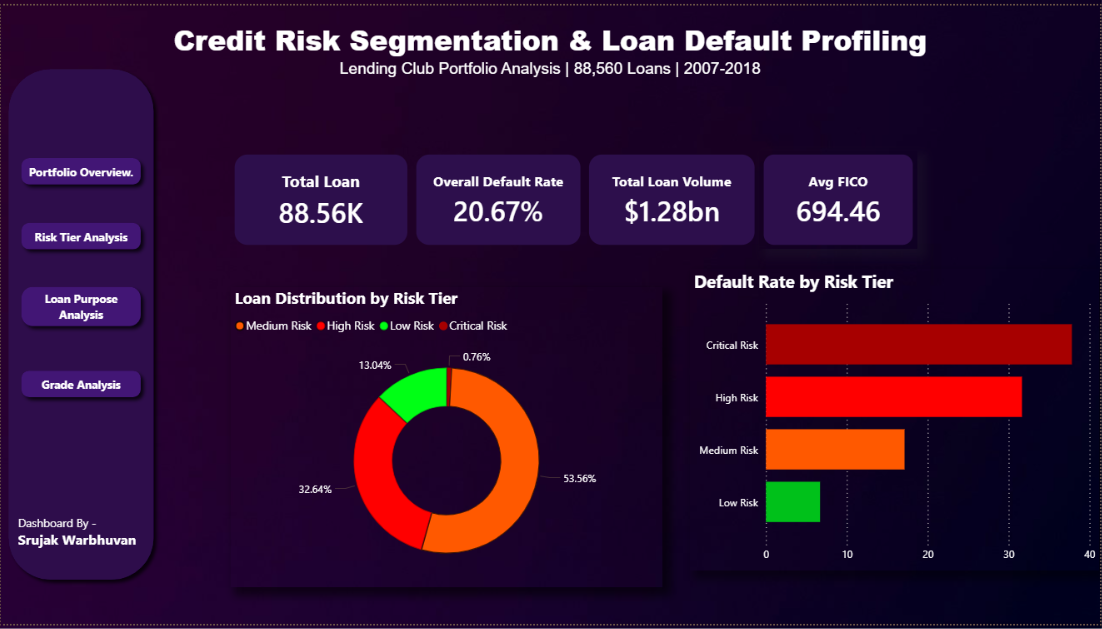

The dashboard page shown, as its layout file describes it:
{"tool":"powerbi","page":{"name":"Portfolio Overview.","canvas":[1280,720],"ordinal":0},"visuals":[{"type":"shape","box":[221.3,142.7,934.7,154.7],"z":0},{"type":"textbox","box":[74.2,12.8,1131.2,88.3],"z":1000},{"type":"cardVisual","fields":{"Data":["CountNonNull(loans_scored_full.loan_amnt)"]},"box":[267.5,168.8,190,100],"z":2000},{"type":"cardVisual","fields":{"Data":["Avg(loans_scored_full.is_default)"]},"box":[472.5,168.8,200,100],"z":3000},{"type":"cardVisual","fields":{"Data":["Sum(loans_scored_full.loan_amnt)"]},"box":[688.8,168.8,200,100],"z":5000},{"type":"cardVisual","fields":{"Data":["Avg(loans_scored_full.fico_range_low)"]},"box":[912.5,168.8,200,100],"z":6000},{"type":"donutChart","title":"Loan Distribution by Risk Tier","fields":{"Category":["loans_scored_full.risk_tier"],"Y":["CountNonNull(loans_scored_full.loan_amnt)"]},"box":[46.7,320,503.3,350],"z":7000},{"type":"barChart","title":"Default Rate by Risk Tier","fields":{"Category":["tier_profile.risk_tier"],"Y":["Sum(tier_profile.default_rate_pct)"]},"box":[610,318.9,605.6,351.1],"z":8000}]}

Visuals, with their boxes in screenshot pixels (x1, y1, x2, y2), scaled from the page's 1280x720 canvas onto the 1102x629 screenshot:
shape: 191:125:995:260
textbox: 64:11:1038:88
cardVisual - CountNonNull(loans_scored_full.loan_amnt): 230:147:394:235
cardVisual - Avg(loans_scored_full.is_default): 407:147:579:235
cardVisual - Sum(loans_scored_full.loan_amnt): 593:147:765:235
cardVisual - Avg(loans_scored_full.fico_range_low): 786:147:958:235
"Loan Distribution by Risk Tier" donutChart: 40:280:474:585
"Default Rate by Risk Tier" barChart: 525:279:1047:585
